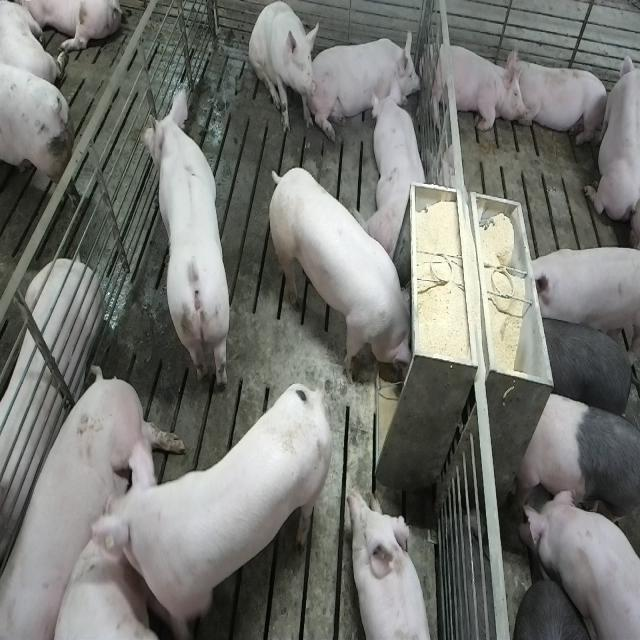Feeding: (273, 166, 421, 390)
Lateral_lying: (2, 362, 188, 636), (0, 258, 103, 578)
Sitting: (249, 2, 319, 136)
Standing: (104, 376, 340, 632), (139, 88, 233, 398), (518, 483, 638, 640), (516, 385, 638, 529), (526, 245, 637, 358), (535, 312, 638, 418)
Sternal_lying: (348, 483, 433, 640), (313, 26, 422, 136), (369, 83, 430, 263), (584, 42, 638, 237), (511, 52, 611, 149), (426, 37, 525, 134)
